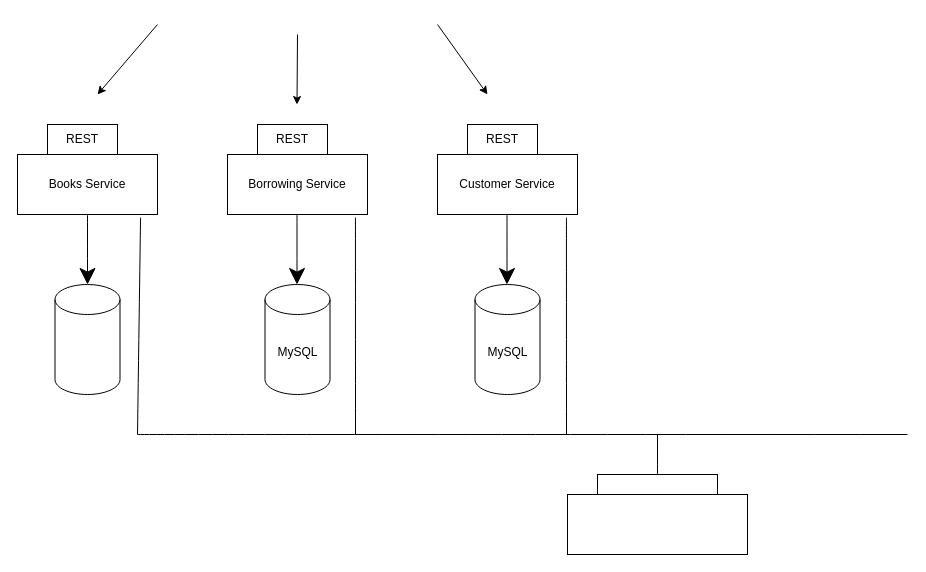
The diagram is 926 pixels wide and 572 high, and some of its shapes have lost their labels. Each missing label, with the centre of its shape:
"MongoDB" belongs at point (87, 339).
"Notification Service" belongs at point (657, 484).
"Rabbit MQ" belongs at point (657, 524).
